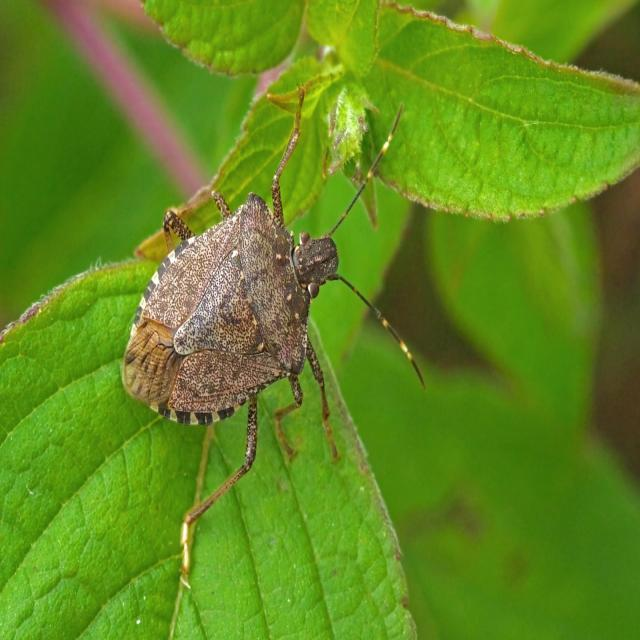stink_bug: (108, 74, 436, 593)
